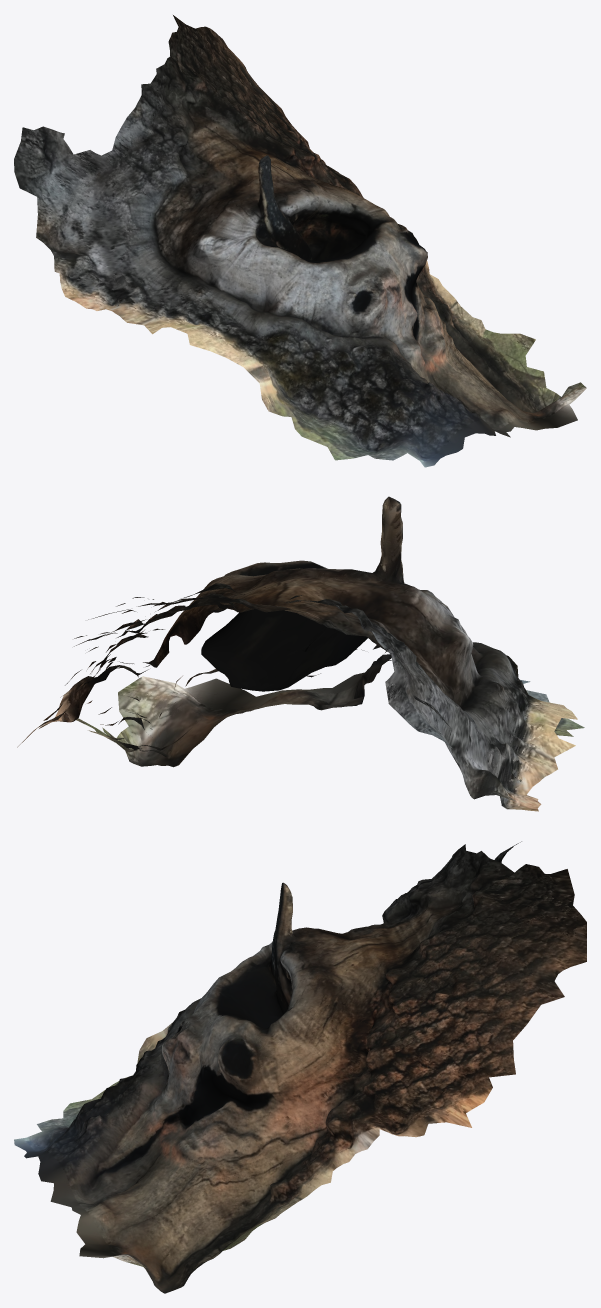
Rendered from model17_prev.glb.
3 views of the same model, one above another, from view 1: azimuth 30°, elevation 25°; view 2: azimuth 150°, elevation 25°; view 3: azimuth 270°, elevation 25° (orthographic). The views are drawn at different scales.
Size of the model in its own units: 6.13 by 4.54 by 7.15.
1 material, 1 textured.
